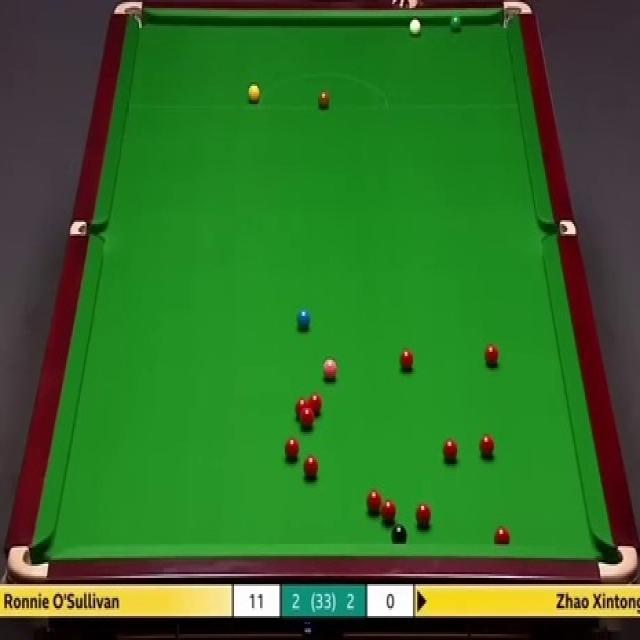black-ball: (389, 524, 407, 546)
blue-ball: (295, 308, 311, 333)
brown-ball: (316, 88, 330, 111)
green-ball: (449, 13, 464, 32)
pink-ball: (323, 354, 338, 382)
red-ball: (380, 497, 398, 528), (398, 347, 416, 375), (302, 455, 319, 483), (414, 503, 431, 529), (478, 433, 495, 459), (366, 489, 382, 515), (286, 436, 302, 461), (442, 439, 458, 463), (484, 343, 499, 368), (308, 394, 322, 418), (494, 526, 510, 546), (301, 410, 314, 430), (295, 398, 308, 418)
white-ball: (407, 16, 422, 40)
yellow-ball: (246, 83, 260, 103)
